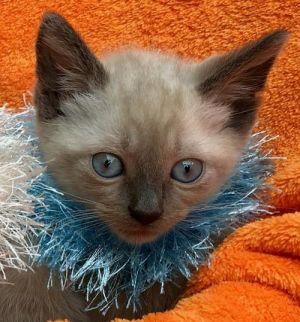siamese: (21, 4, 293, 259)
